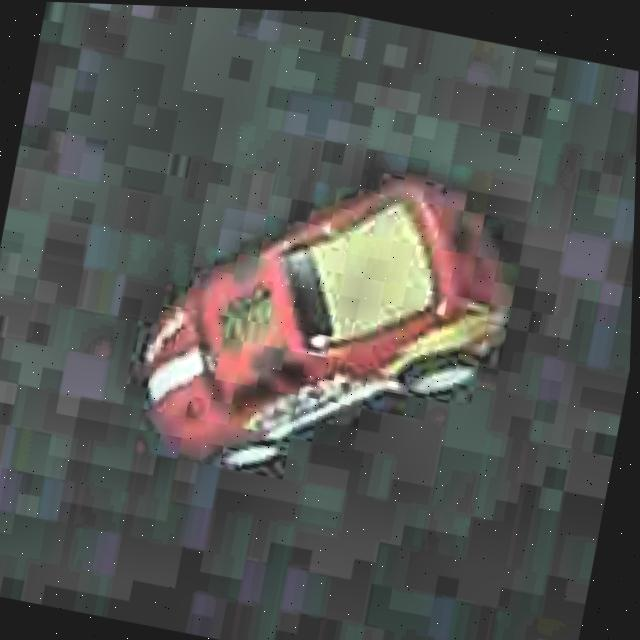car: (123, 127, 536, 518)
